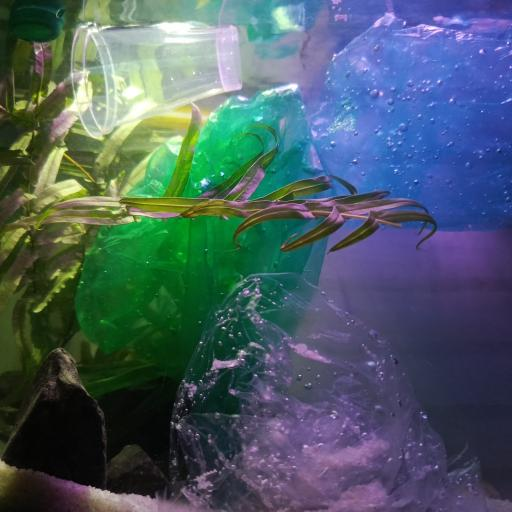bottle_cap: (7, 7, 62, 43)
plastic_bag: (72, 85, 332, 400), (165, 268, 485, 512), (265, 16, 512, 234)
plastic_cup: (70, 21, 243, 135)
